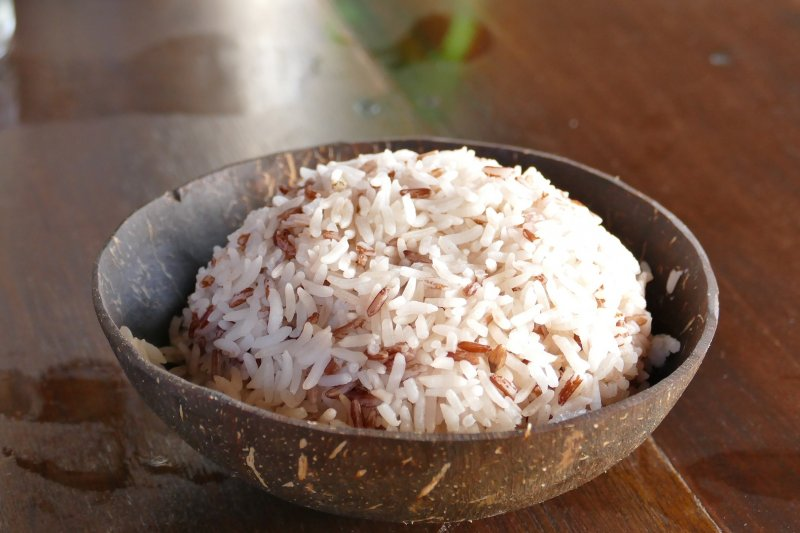Nasi Merah: (131, 143, 656, 465)
